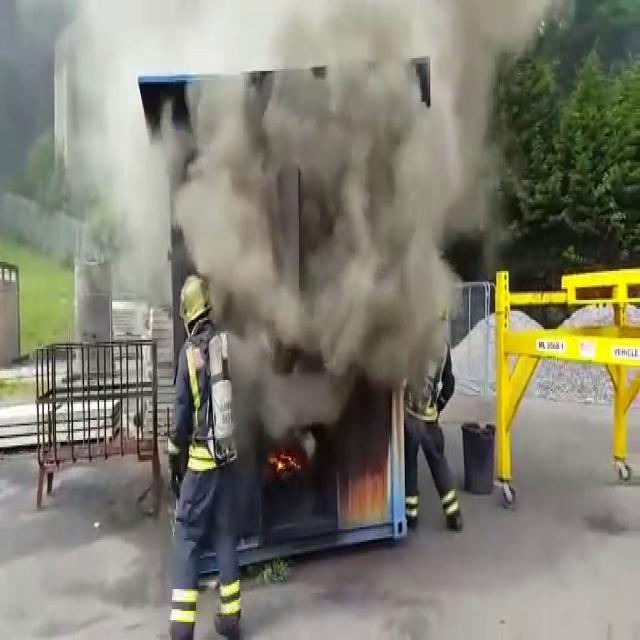Smoke: (162, 0, 500, 435)
